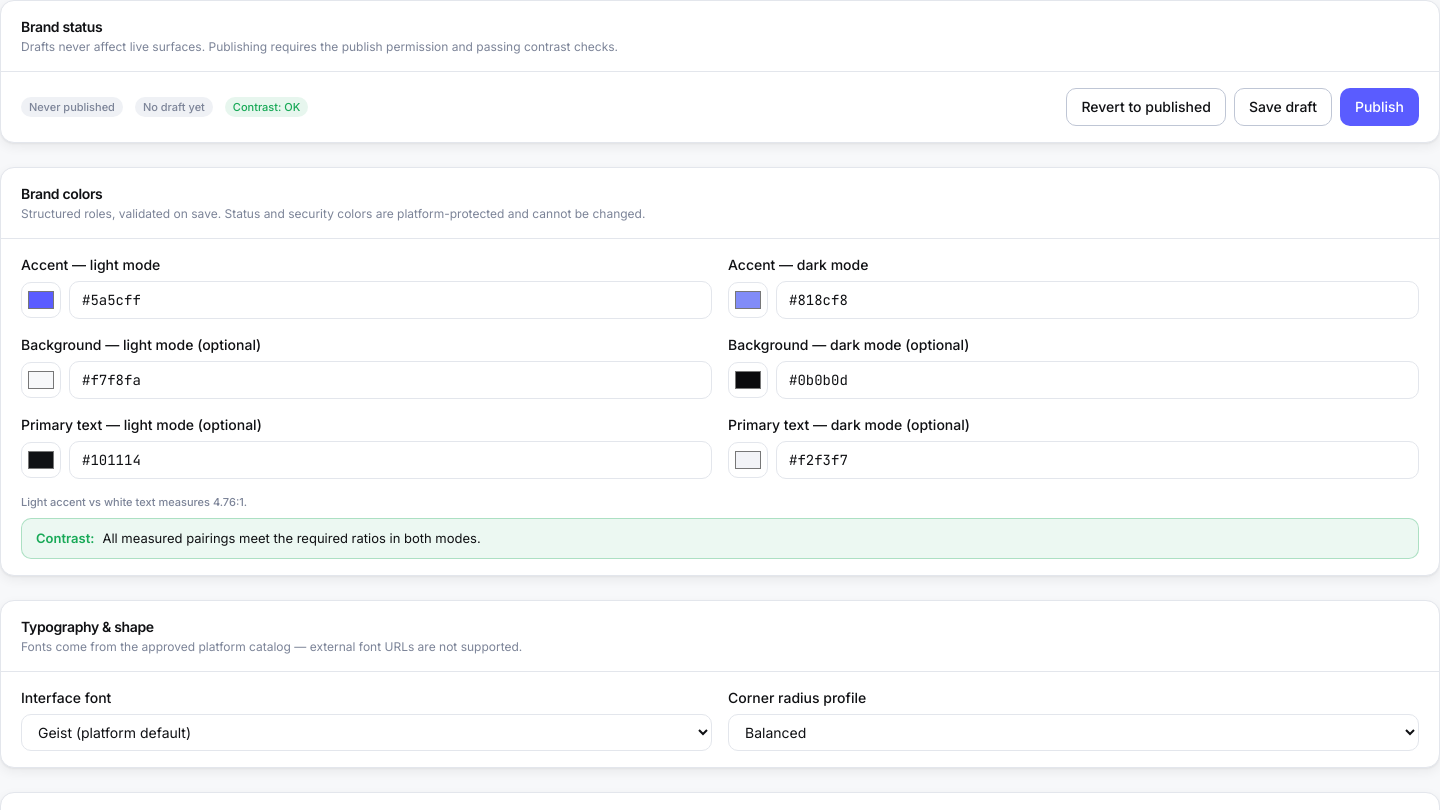
it: brand studio › editing a color marks the draft dirty and saving clears it
Replace the text in the field labelled "Accent — light mode" with "#be185d". click: (390, 300)
box: [69, 281, 712, 319]
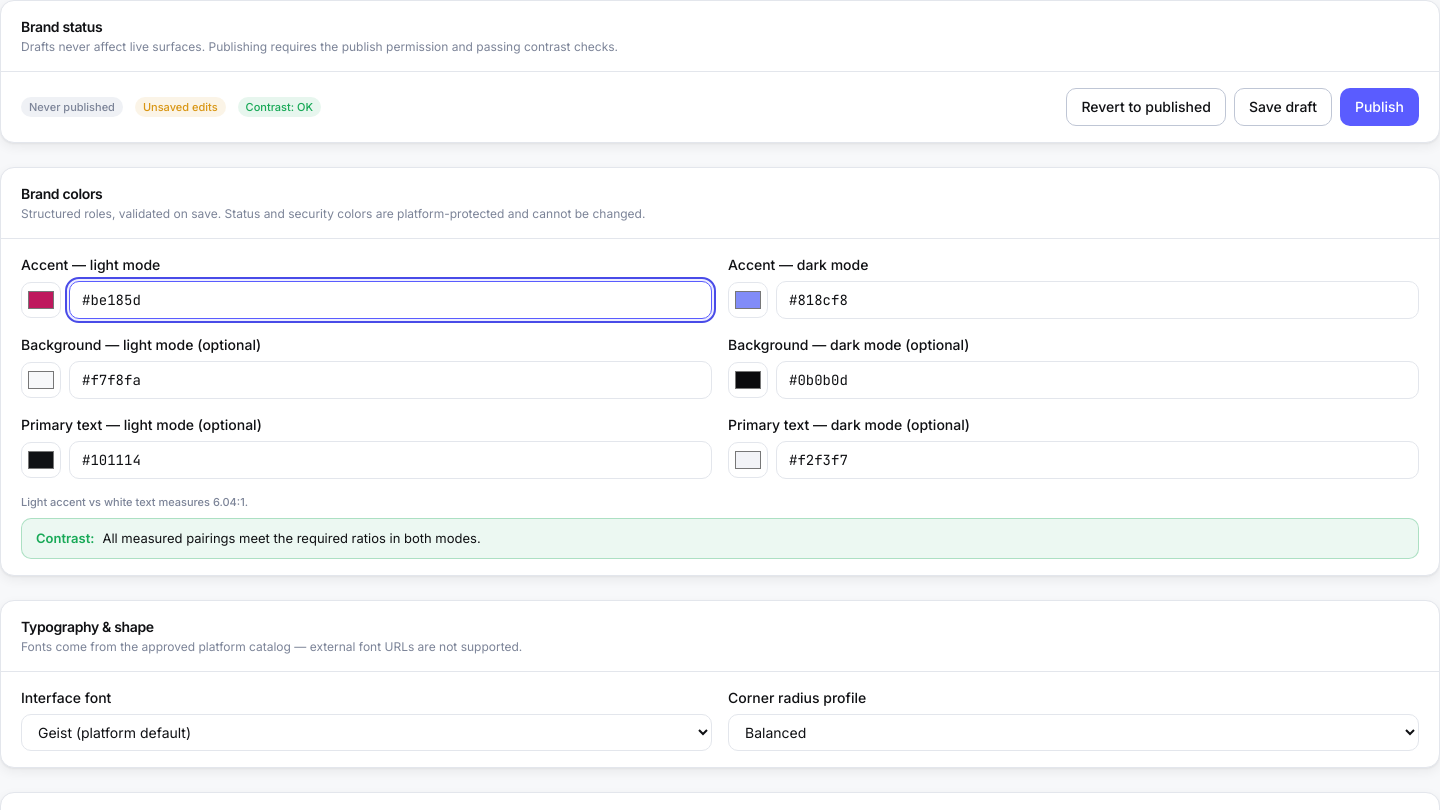
Now the text "Unsaved edits" is shown, box [135, 97, 226, 117]
Click the button "Save draft". click: (1283, 107)
box: [1234, 88, 1332, 126]
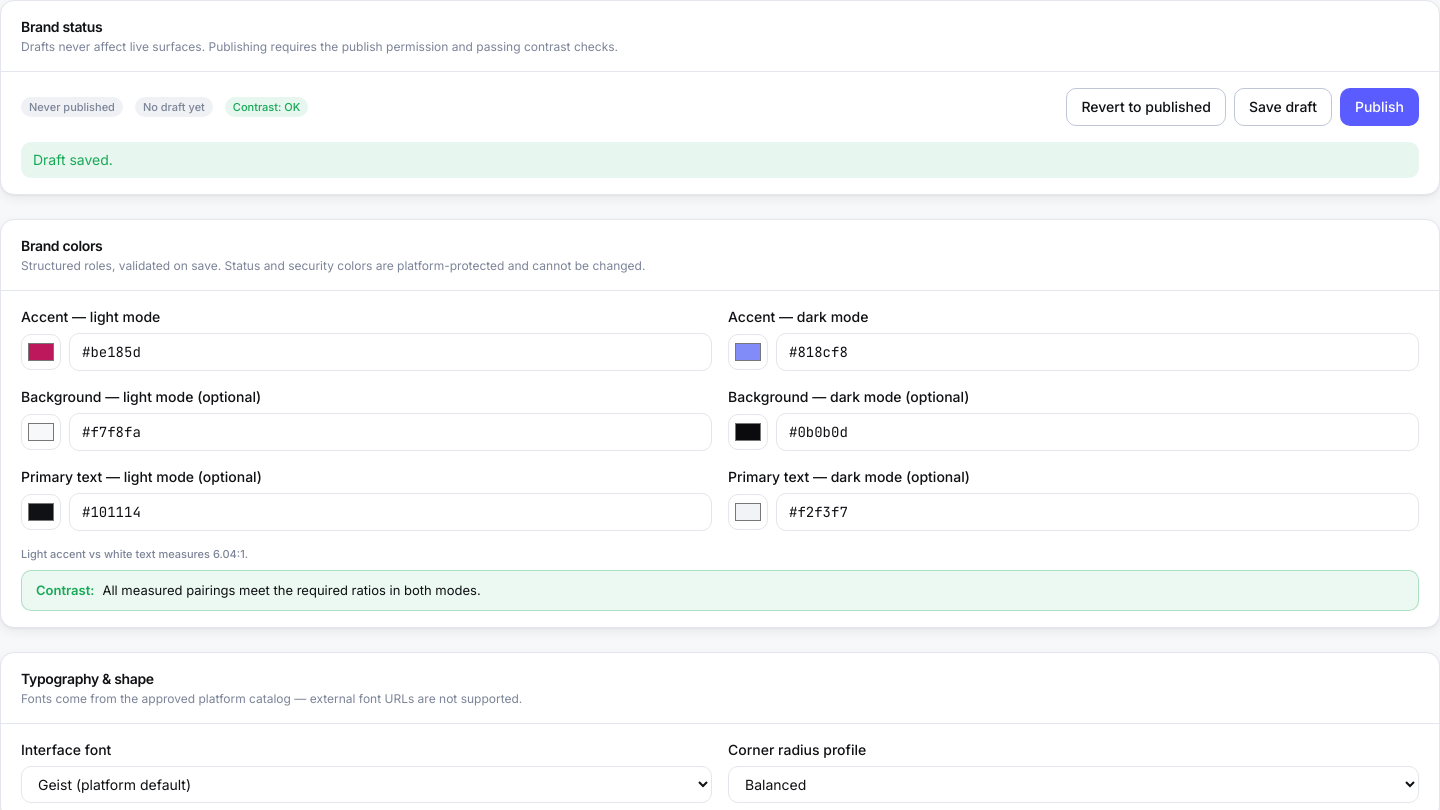
Now the text "Draft saved." is shown, box [21, 142, 1419, 178]
